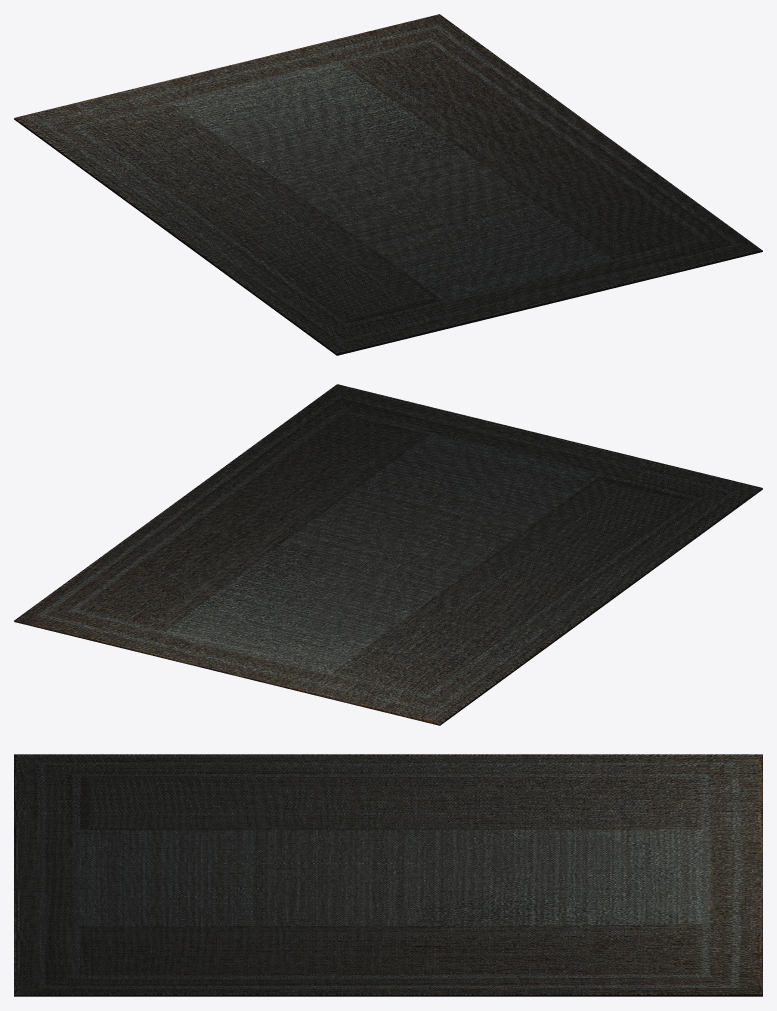
The model's file is tapete.glb.
3 views of the same model, one above another, from view 1: azimuth 30°, elevation 25°; view 2: azimuth 150°, elevation 25°; view 3: azimuth 270°, elevation 25° (orthographic). The views are drawn at different scales.
Visible parts, largest first — view 1: Object_2; view 2: Object_2; view 3: Object_2.
Boxes of the visible parts, <box> form: Object_2: <box>14,14,762,355</box>; Object_2: <box>14,384,762,725</box>; Object_2: <box>14,754,762,996</box>.
Size of the model in its own units: 2281 by 8.38 by 2996.
1 material, 1 textured.
